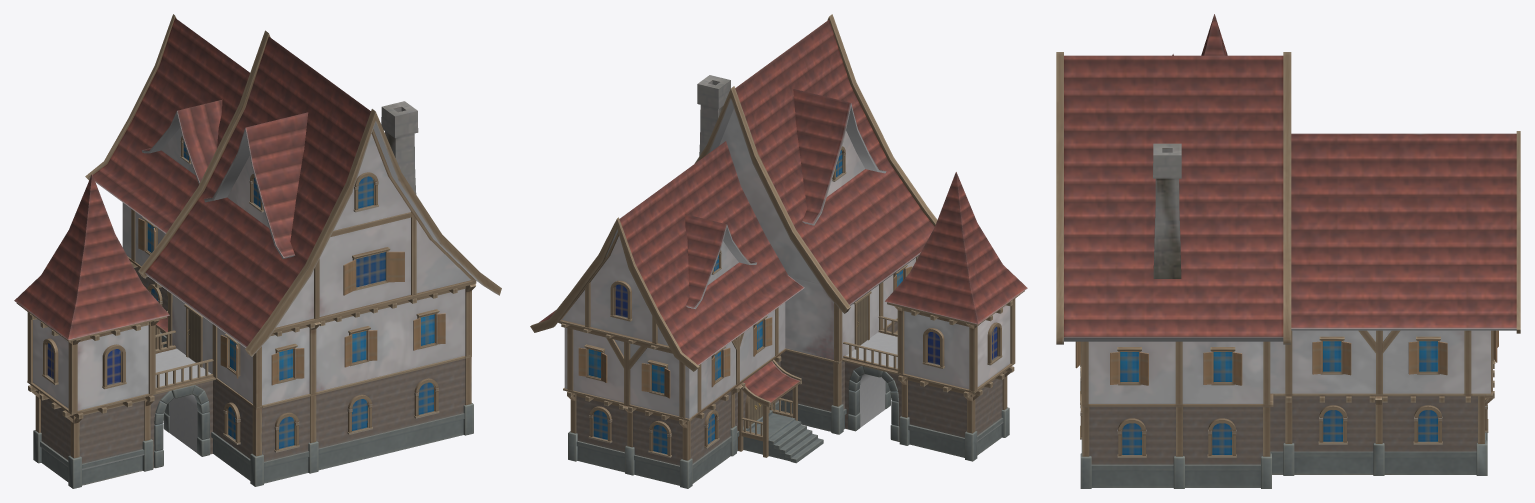
File: house.glb
3 renders of one model, left to right at view 1: azimuth 30°, elevation 25°; view 2: azimuth 150°, elevation 25°; view 3: azimuth 270°, elevation 25°, orthographic. The views are drawn at different scales.
Visible parts, largest first — view 1: SM_House__0; view 2: SM_House__0; view 3: SM_House__0.
Boxes of the visible parts, box(x1,y1,x2,y2) form: SM_House__0: box(14, 14, 501, 488); SM_House__0: box(530, 14, 1027, 488); SM_House__0: box(1056, 14, 1520, 488).
Size of the model in its own units: 15.4 by 13.63 by 15.09.
Materials: 1 (1 with a texture image).
